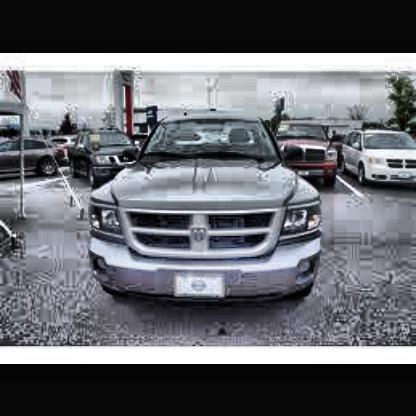Dodge Dakota Crew Cab 2010: (93, 116, 322, 303)
